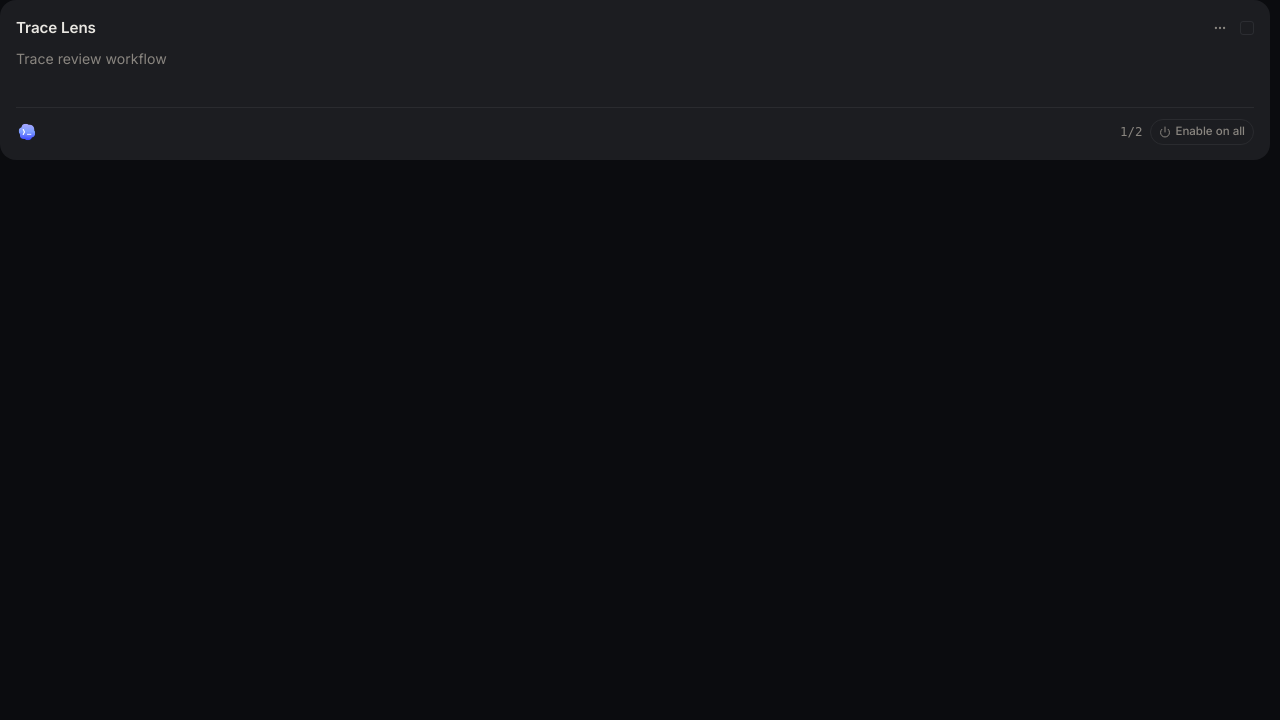
SkillInUseCard › shows only structural menu actions and omits update-from-source
The image size is (1280, 720).
Click the button named "More actions for Trace Lens": (1220, 28) [1206, 16, 1234, 40]
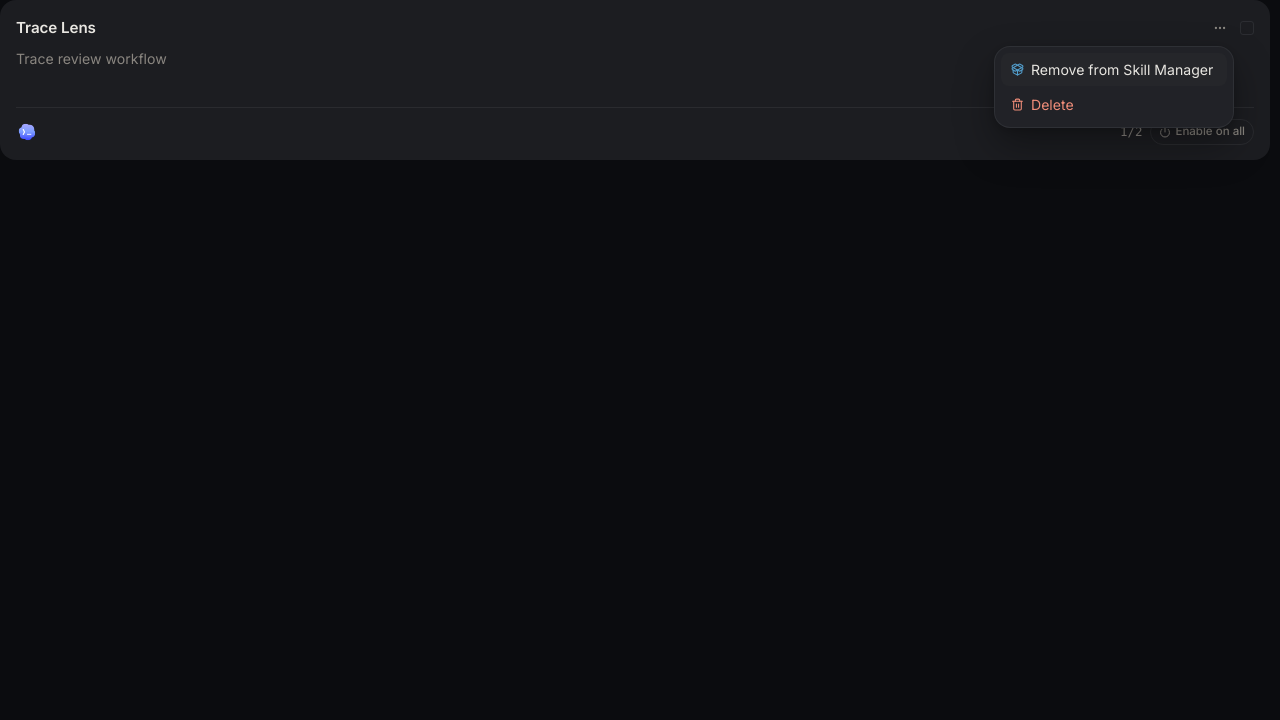
Check: the button "Remove from Skill Manager" is shown, box [1001, 53, 1227, 86]
Check: the button "Delete" is shown, box [1001, 88, 1227, 121]
